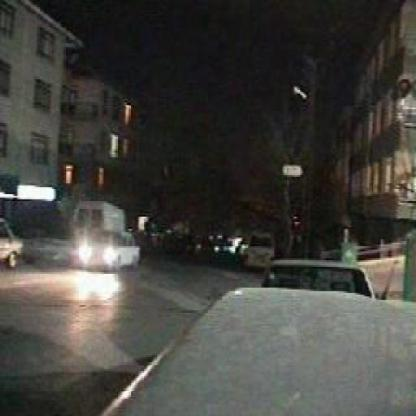other: (60, 238, 134, 275), (71, 265, 120, 307)
